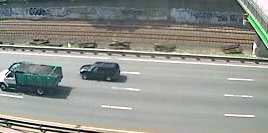car: (1, 59, 65, 96), (78, 60, 122, 84)
